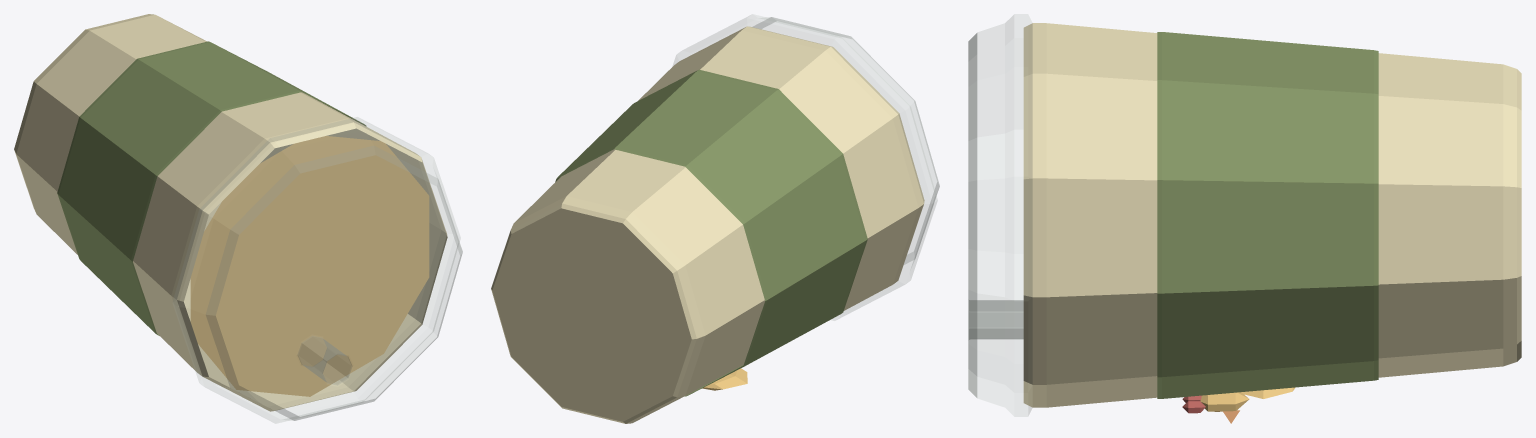
File: chicken_soup.glb
3 views of the same model, side by side, from view 1: azimuth 30°, elevation 25°; view 2: azimuth 150°, elevation 25°; view 3: azimuth 270°, elevation 25° (orthographic). The views are drawn at different scales.
Parts seen in each view (by area): view 1: chicken_soup; view 2: chicken_soup; view 3: chicken_soup.
Part boxes in pixels (bbox=[...]): chicken_soup: bbox=[14, 14, 462, 423]; chicken_soup: bbox=[491, 14, 939, 423]; chicken_soup: bbox=[968, 14, 1521, 423].
Bounding box in the file's own units: 0.088 × 0.0837 × 0.12.
